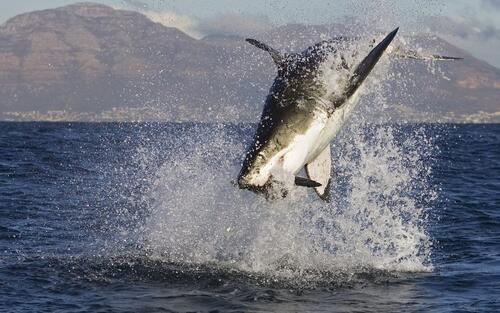shark: (236, 26, 465, 203)
